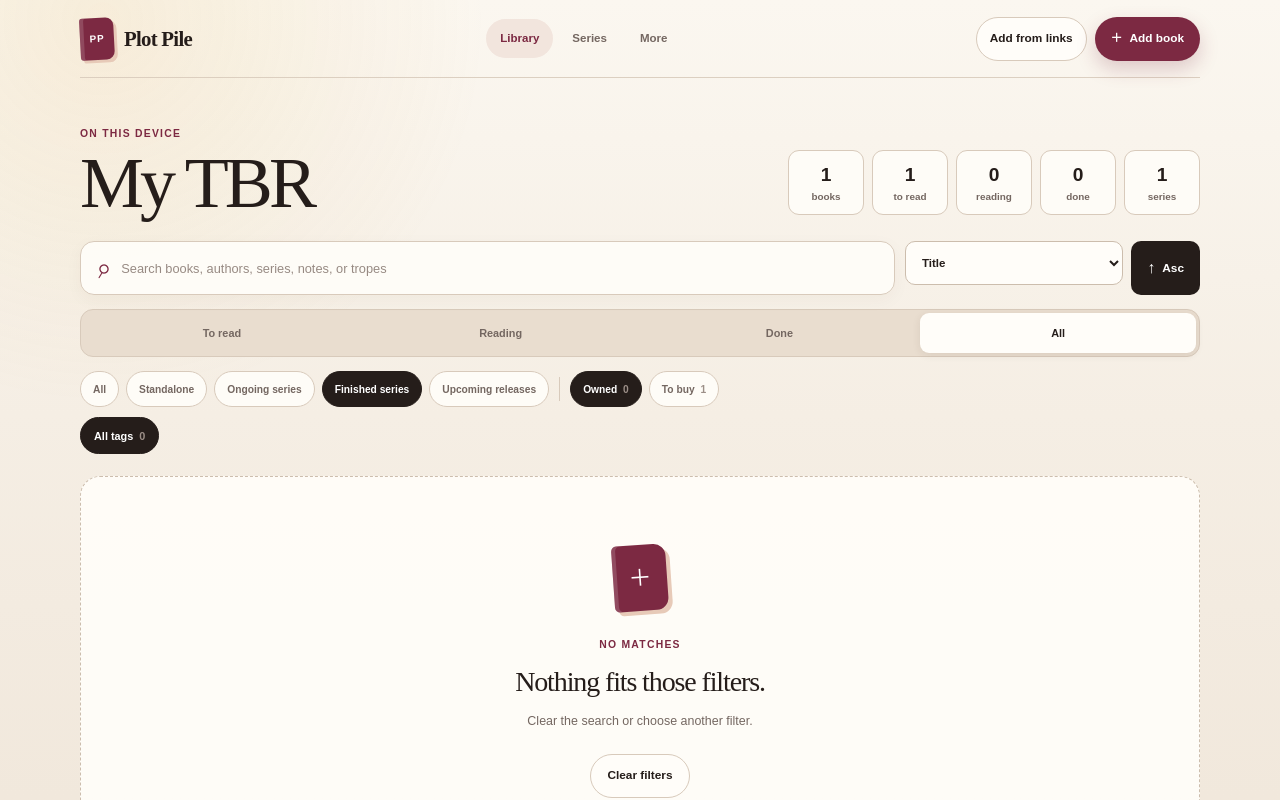
Test case: Plot Pile behavior › clear filters restores and stores every library view default
Check: the heading "My TBR" is shown, box x1=80 y1=151 x2=313 y2=215
Type "no such book" into the search field named "Search books". click: (500, 268)
box: x1=121 y1=242 x2=879 y2=294
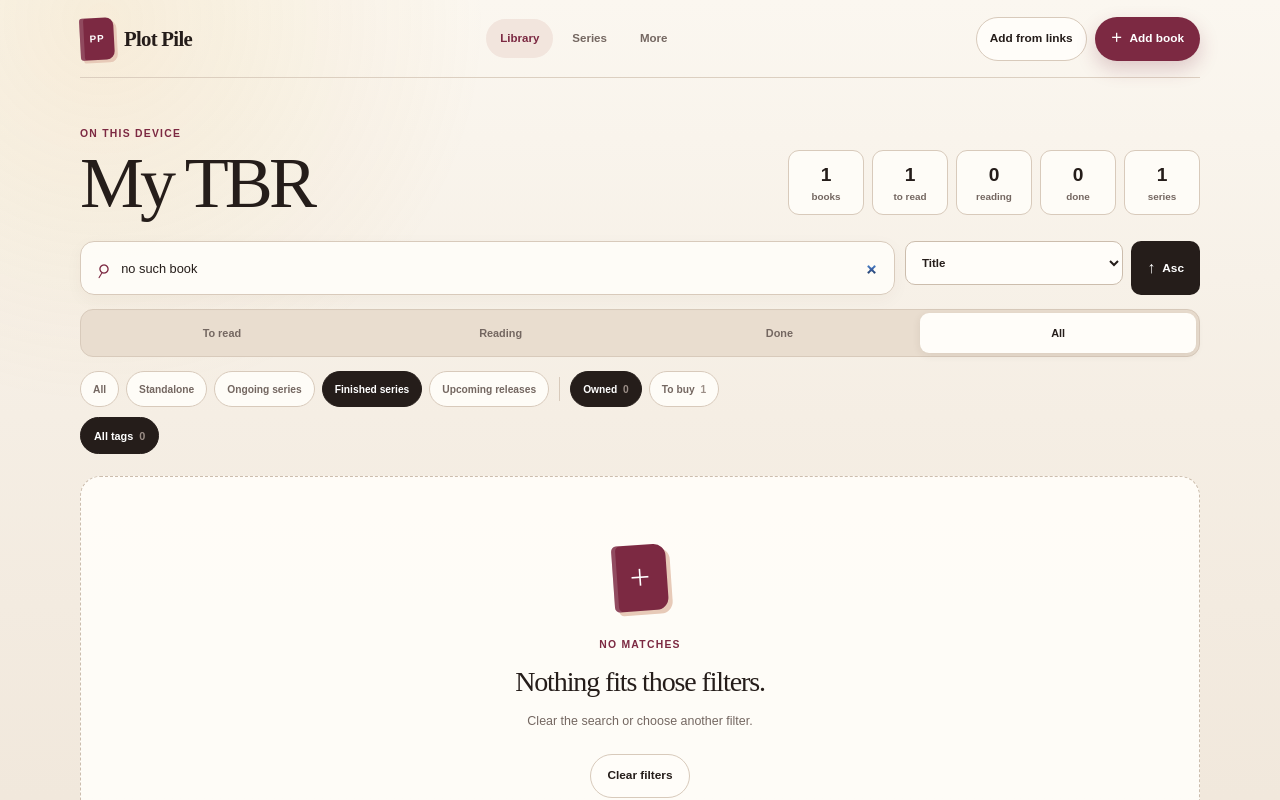
Click the button "Clear filters". click: (640, 776)
box: x1=590 y1=754 x2=690 y2=798
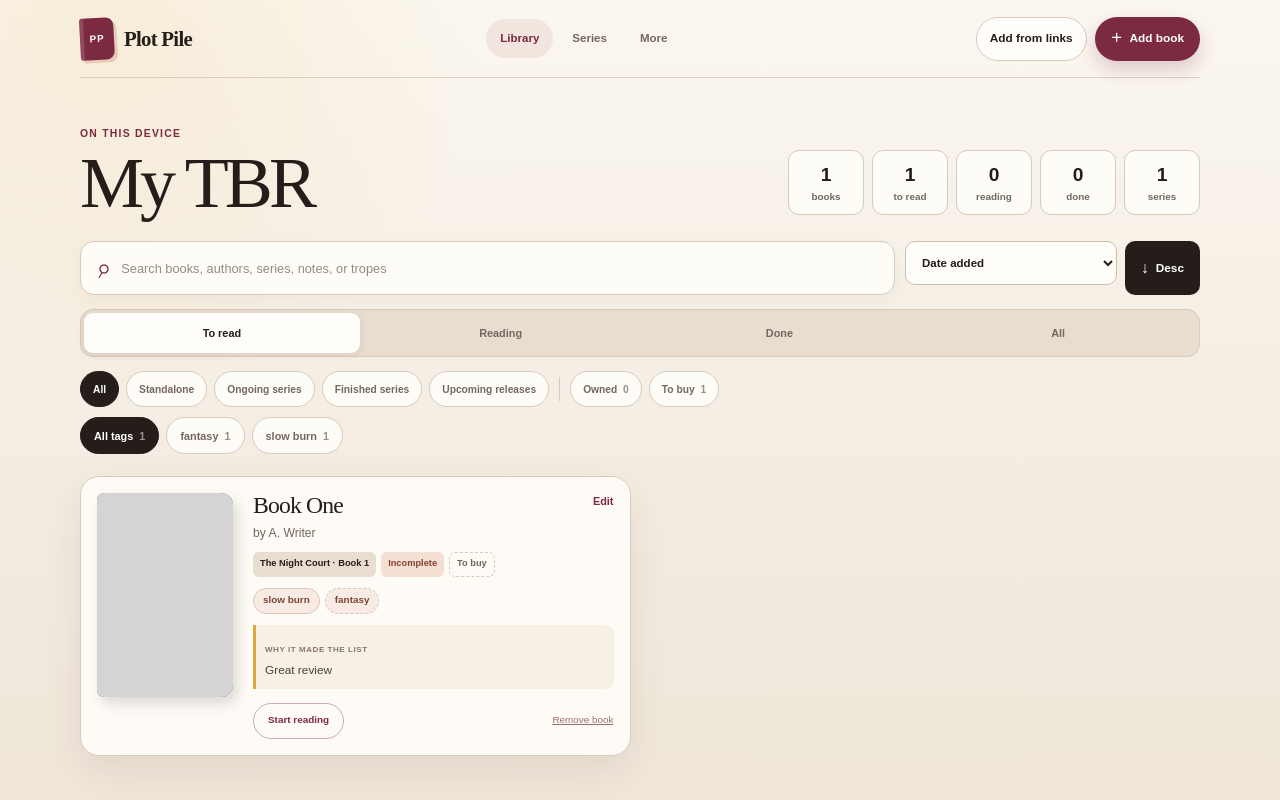
Check: the dropdown named "Sort books by" shows "Date added", box x1=905 y1=241 x2=1117 y2=285
Check: the button with aria-label "Sort ascending" shows "Desc", box x1=1125 y1=241 x2=1200 y2=295
